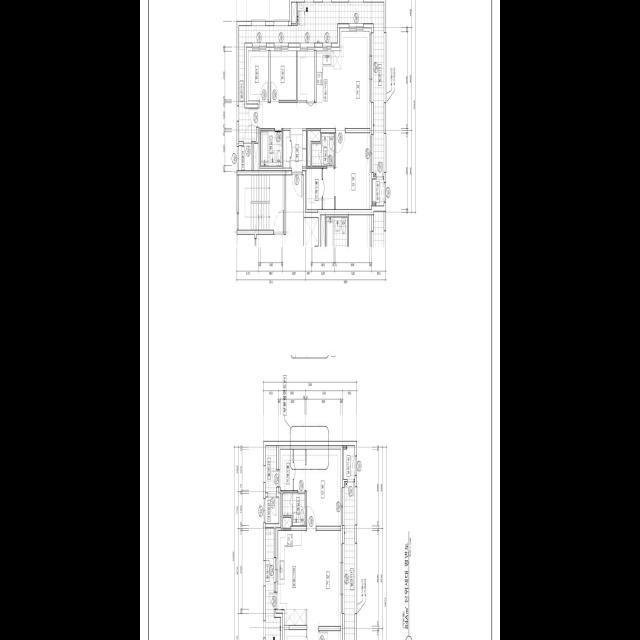background: (140, 0, 500, 640)
space_balconi: (239, 2, 384, 176), (344, 481, 355, 640), (266, 527, 281, 640), (266, 445, 276, 493)
space_bedroom: (335, 132, 370, 209), (306, 449, 341, 525), (270, 50, 296, 99), (248, 50, 268, 100)
space_dressroom: (307, 168, 334, 209), (280, 449, 305, 490)
space_front: (291, 128, 307, 172)
space_kitchen: (278, 530, 306, 625), (317, 51, 341, 102)
space_living_room: (260, 31, 370, 128), (307, 530, 341, 640)
space_other: (297, 50, 314, 100), (308, 130, 320, 165), (265, 496, 279, 523), (239, 145, 252, 170), (283, 130, 290, 167), (284, 629, 306, 640), (254, 143, 258, 170), (291, 2, 296, 23), (283, 517, 291, 527)
space_outdoor_room: (343, 445, 355, 479), (373, 179, 384, 205)
space_staircase: (239, 175, 284, 229)
space_toilet: (261, 130, 282, 166), (312, 132, 334, 166), (283, 492, 305, 525)
